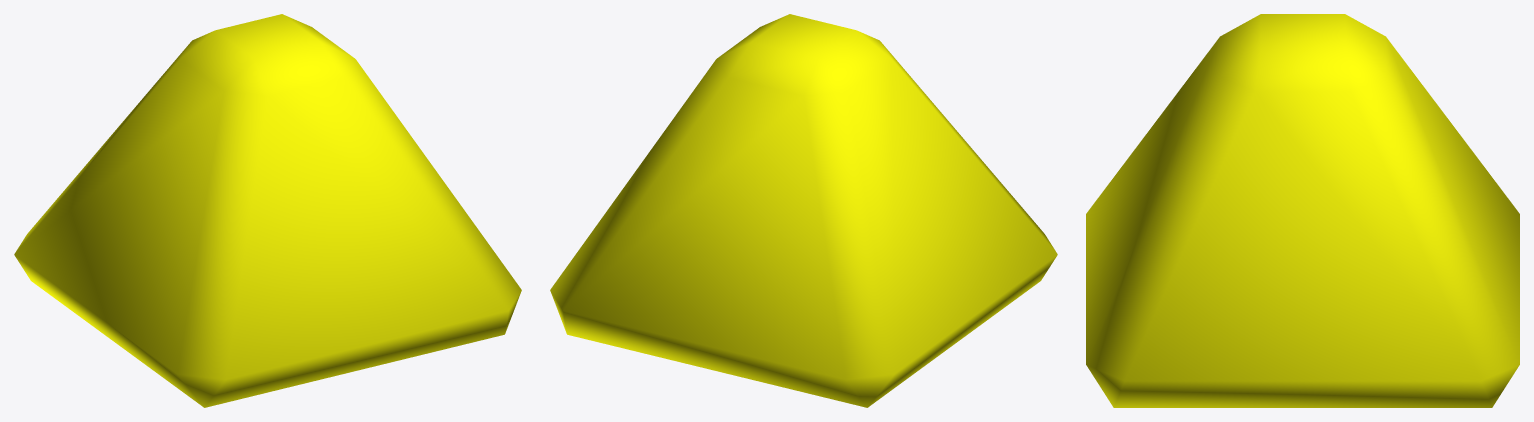
File: kaykit-bush-4-a-color-1.glb
The picture shows the model from 3 angles, left to right: view 1: azimuth 30°, elevation 25°; view 2: azimuth 150°, elevation 25°; view 3: azimuth 270°, elevation 25°; orthographic projection. The views are drawn at different scales.
Visible parts, largest first — view 1: Bush_4_A_Color1; view 2: Bush_4_A_Color1; view 3: Bush_4_A_Color1.
Boxes of the visible parts, box(x1,y1,x2,y2) form: Bush_4_A_Color1: box(14, 14, 521, 407); Bush_4_A_Color1: box(550, 14, 1057, 407); Bush_4_A_Color1: box(1086, 14, 1519, 407).
Bounding box in the file's own units: 0.5768 × 0.4344 × 0.5768.
